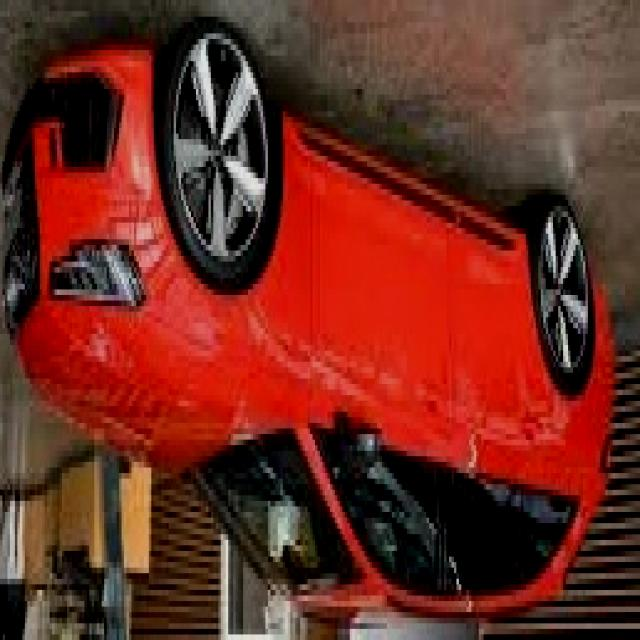red: (13, 45, 612, 614)
